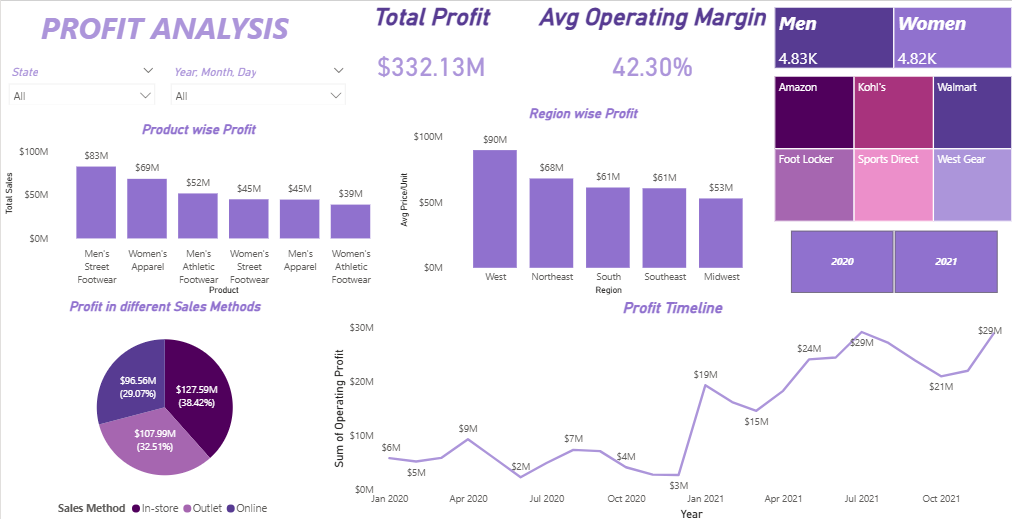

This screenshot's page, from the dashboard's own definition file:
{"tool":"powerbi","page":{"name":"Profit Analysis","canvas":[1280,720],"ordinal":4},"visuals":[{"type":"treemap","fields":{"Group":["Table 1 (Data Sales Adidas).Product Gender"],"Values":["CountNonNull(Table 1 (Data Sales Adidas).Product Gender)"]},"box":[969.5,64.3,309.9,86.9],"z":0},{"type":"treemap","fields":{"Values":["Count(Table 1 (Data Sales Adidas).Retailer)"],"Details":["Table 1 (Data Sales Adidas).Retailer"]},"box":[969.5,151.2,309.9,192.8],"z":1000},{"type":"slicer","fields":{"Values":["Table 1 (Data Sales Adidas).Invoice Date.Variation.Date Hierarchy.Year"]},"box":[969.5,343.9,309.9,92.6],"z":2000},{"type":"card","title":"Total Profit","fields":{"Values":["Sum(Table 1 (Data Sales Adidas).Operating Profit)"]},"box":[412,64.3,258.9,120.9],"z":3000},{"type":"card","title":"Avg Operating Margin","fields":{"Values":["Avg(Table 1 (Data Sales Adidas).Operating Margin)"]},"box":[670.9,64.3,298.6,120.9],"z":4000},{"type":"textbox","box":[0,64.3,412,73.7],"z":5000},{"type":"pieChart","title":"Profit in different Sales Methods","fields":{"Category":["Table 1 (Data Sales Adidas).Sales Method"],"Y":["Sum(Table 1 (Data Sales Adidas).Operating Profit)"]},"box":[0,436.5,412,283.5],"z":6000},{"type":"columnChart","title":"Region wise Profit","fields":{"Category":["Table 1 (Data Sales Adidas).Region"],"Y":["Sum(Table 1 (Data Sales Adidas).Operating Profit)"]},"box":[497,192.8,472.4,243.8],"z":7000},{"type":"clusteredColumnChart","title":"Product wise Profit","fields":{"Category":["Table 1 (Data Sales Adidas).Product"],"Y":["Sum(Table 1 (Data Sales Adidas).Operating Profit)"]},"box":[0,213.5,497,223],"z":8000},{"type":"lineChart","title":"Profit Timeline","fields":{"Category":["Table 1 (Data Sales Adidas).Invoice Date.Variation.Date Hierarchy.Year","Table 1 (Data Sales Adidas).Invoice Date.Variation.Date Hierarchy.Month"],"Y":["Sum(Table 1 (Data Sales Adidas).Operating Profit)"]},"box":[412,436.5,867.4,283.5],"z":9000},{"type":"slicer","fields":{"Values":["Table 1 (Data Sales Adidas).State"]},"box":[0,138,204.1,54.8],"z":10000},{"type":"slicer","fields":{"Values":["Table 1 (Data Sales Adidas).Invoice Date.Variation.Date Hierarchy.Year","Table 1 (Data Sales Adidas).Invoice Date.Variation.Date Hierarchy.Month","Table 1 (Data Sales Adidas).Invoice Date.Variation.Date Hierarchy.Day"]},"box":[204.1,138,240,54.8],"z":11000}]}

Visuals, with their boxes on the page's 1280x720 design canvas (x1, y1, x2, y2). These are canvas units, not pixel positions in the 1012x519 screenshot, which may show the page scaled, cropped or inside an application window:
treemap - Table 1 (Data Sales Adidas).Product Gender x CountNonNull(Table 1 (Data Sales Adidas).Product Gender): 970,64,1279,151
treemap - Count(Table 1 (Data Sales Adidas).Retailer) x Table 1 (Data Sales Adidas).Retailer: 970,151,1279,344
slicer - Table 1 (Data Sales Adidas).Invoice Date.Variation.Date Hierarchy.Year: 970,344,1279,436
"Total Profit" card: 412,64,671,185
"Avg Operating Margin" card: 671,64,970,185
textbox: 0,64,412,138
"Profit in different Sales Methods" pieChart: 0,436,412,720
"Region wise Profit" columnChart: 497,193,969,437
"Product wise Profit" clusteredColumnChart: 0,214,497,436
"Profit Timeline" lineChart: 412,436,1279,720
slicer - Table 1 (Data Sales Adidas).State: 0,138,204,193
slicer - Table 1 (Data Sales Adidas).Invoice Date.Variation.Date Hierarchy.Year x Table 1 (Data Sales Adidas).Invoice Date.Variation.Date Hierarchy.Month: 204,138,444,193
